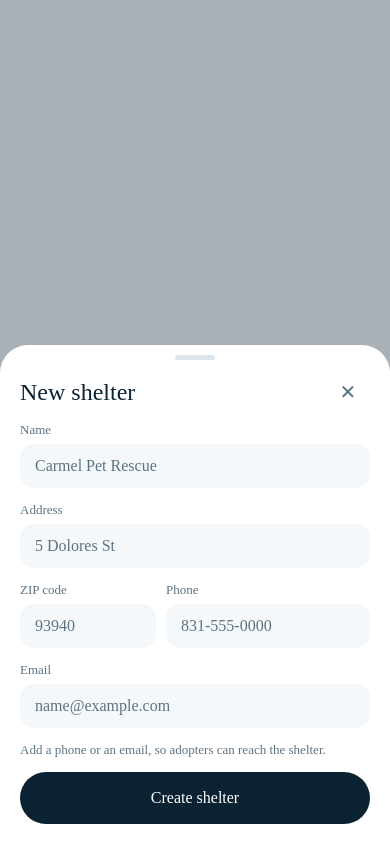
Scenario: any other failure shows a general error
The width and height of the screenshot is (390, 844).
Click the button "Create shelter": point(195, 798) [20,772,370,824]
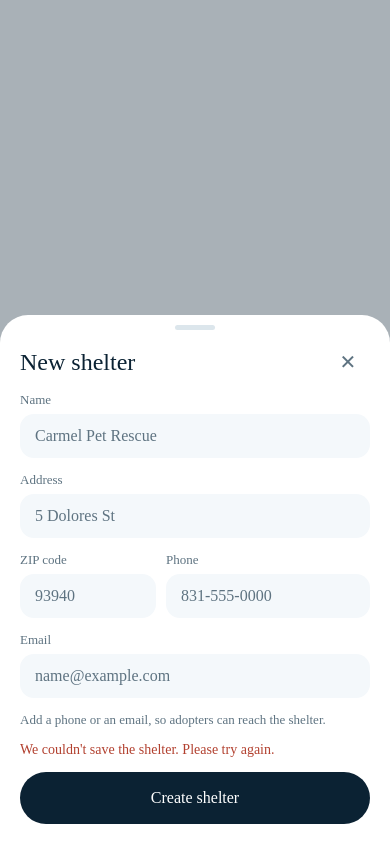
Now the message reads "We couldn't save the shelter. Please try again.", box [20,742,274,757]
